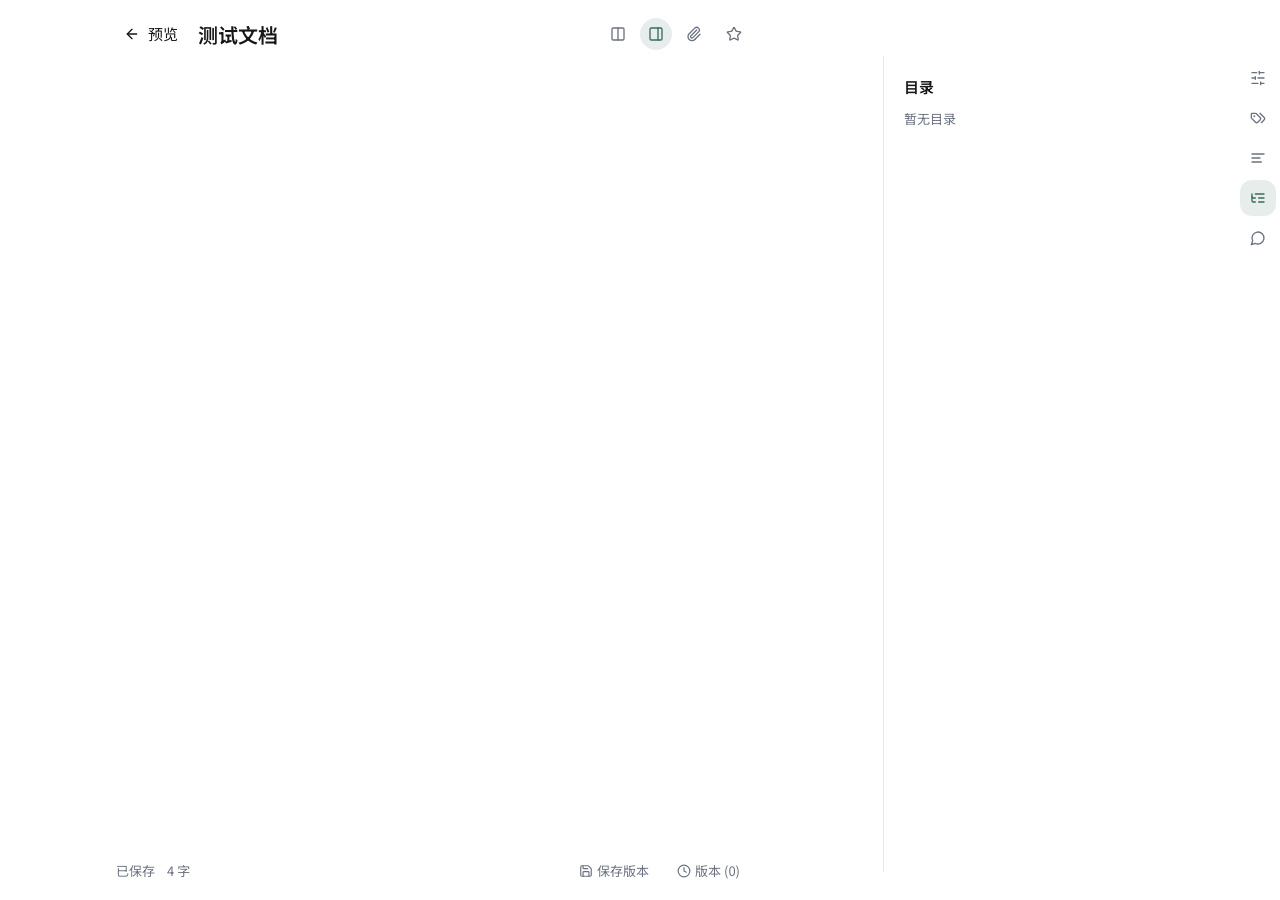
DocumentEditorPage › generates an AI summary only after an explicit click and saves it manually
What coordinates should you click on to do the following:
click the tab with test id "editor-sidebar-tab-summary"
I would click on:
 (1258, 158)
Its box is [1240,140,1276,176].
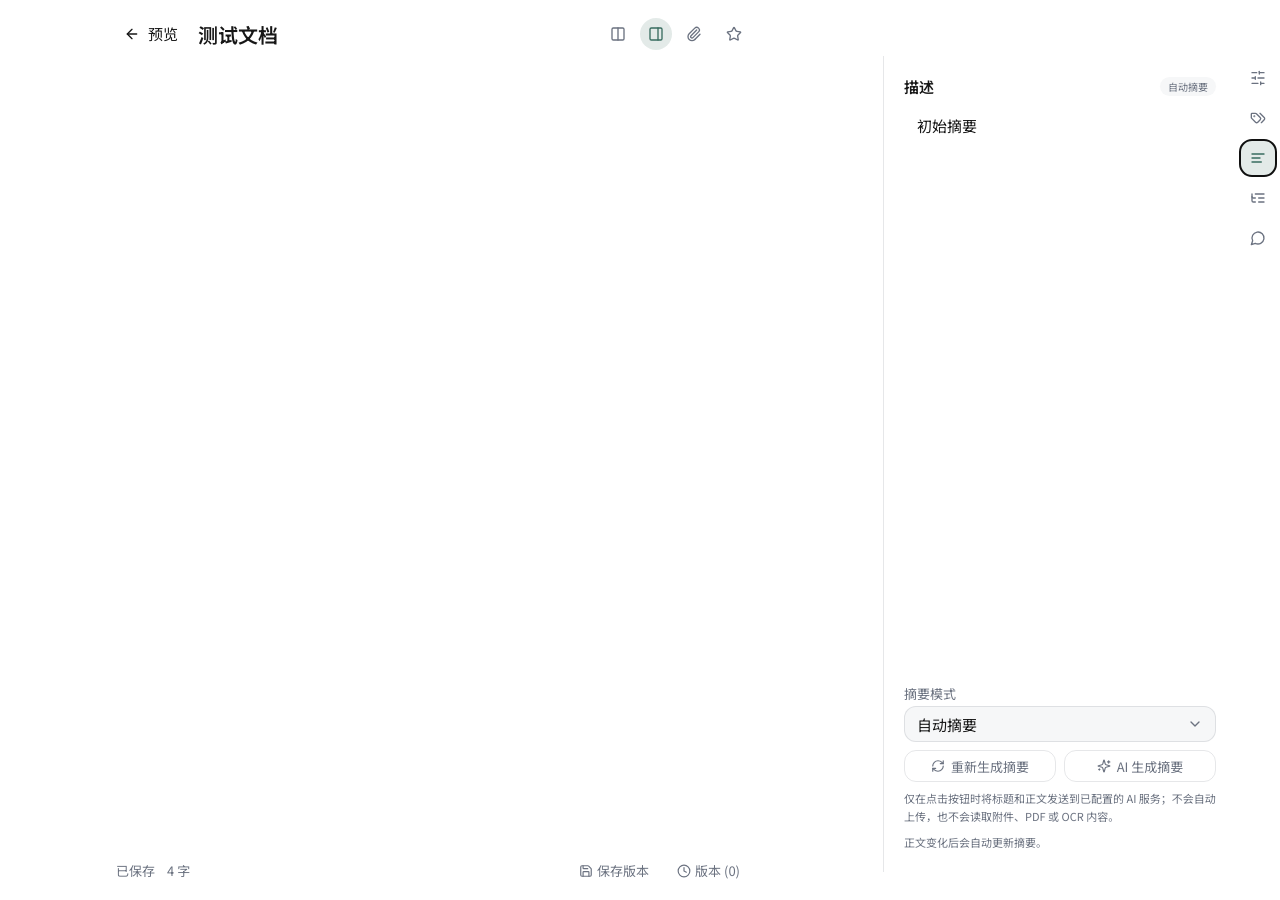
What coordinates should you click on to do the following:
click the button with test id "doc-ai-summary-btn"
I would click on:
 (1140, 766)
Its box is [1064,750,1216,782].
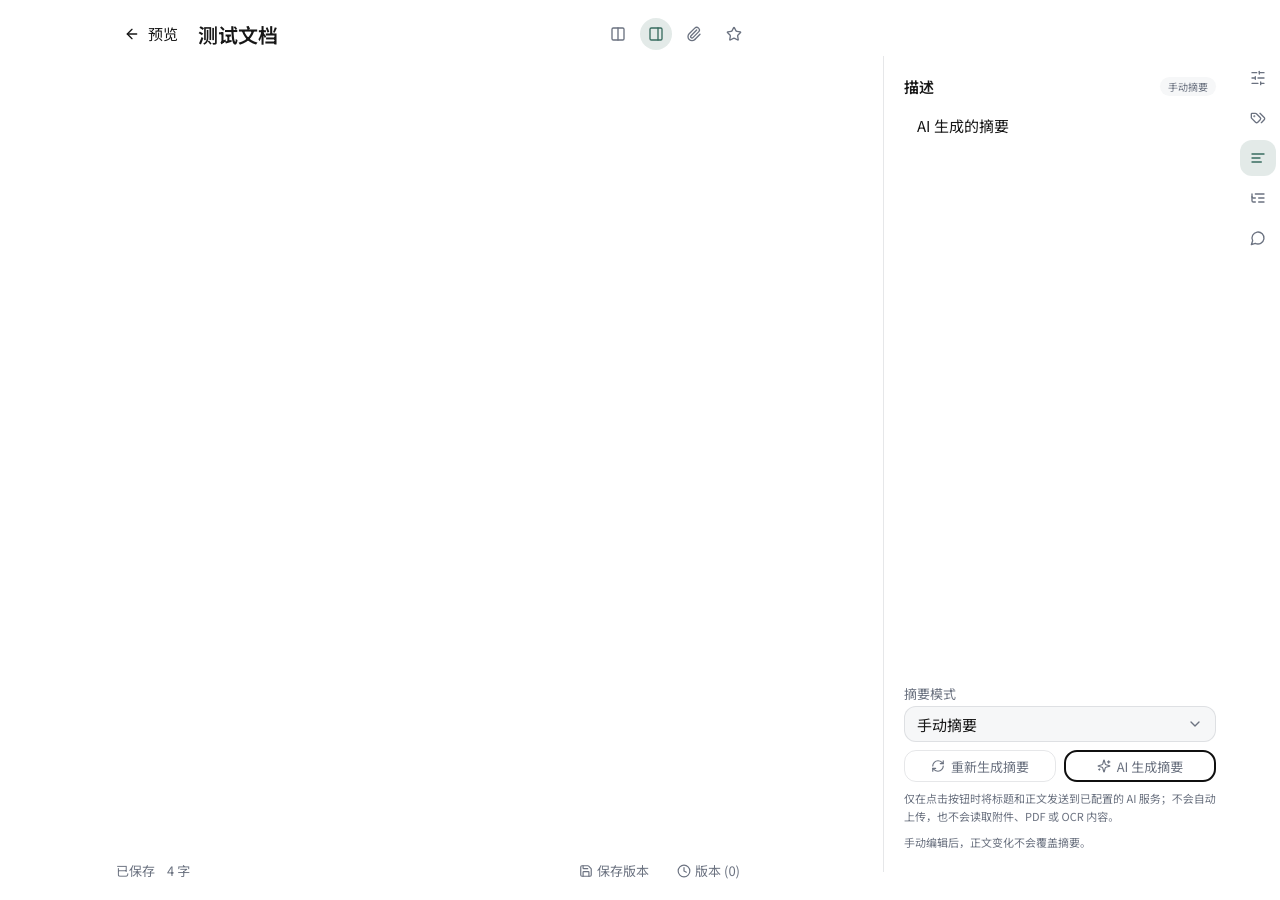
Expected: the text box with test id "doc-summary-input" holds "AI 生成的摘要", [904,106,1216,677]
Expected: the text with test id "doc-summary-mode-badge" reads "手动摘要", [1168,79,1208,94]
